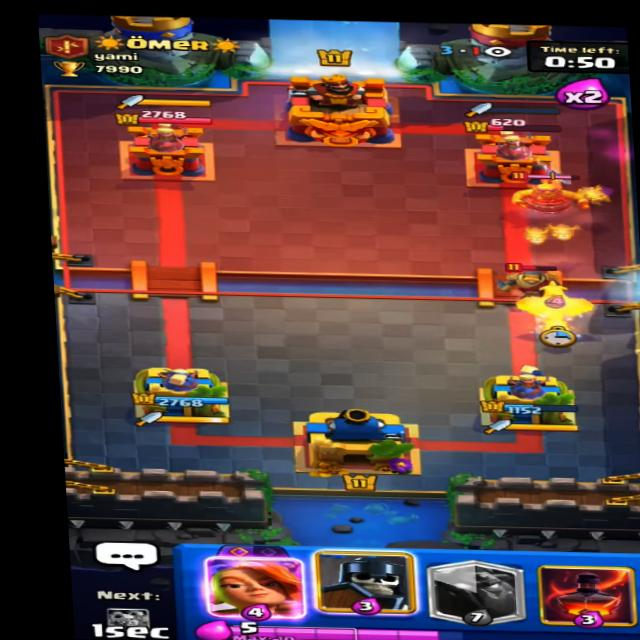goblin-demolisher: (508, 172, 598, 220)
knight: (494, 258, 568, 304)
